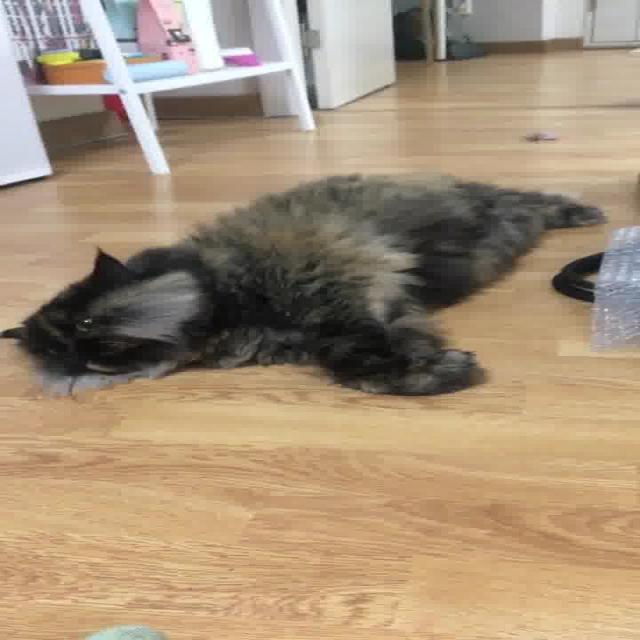cat: (0, 151, 640, 404)
